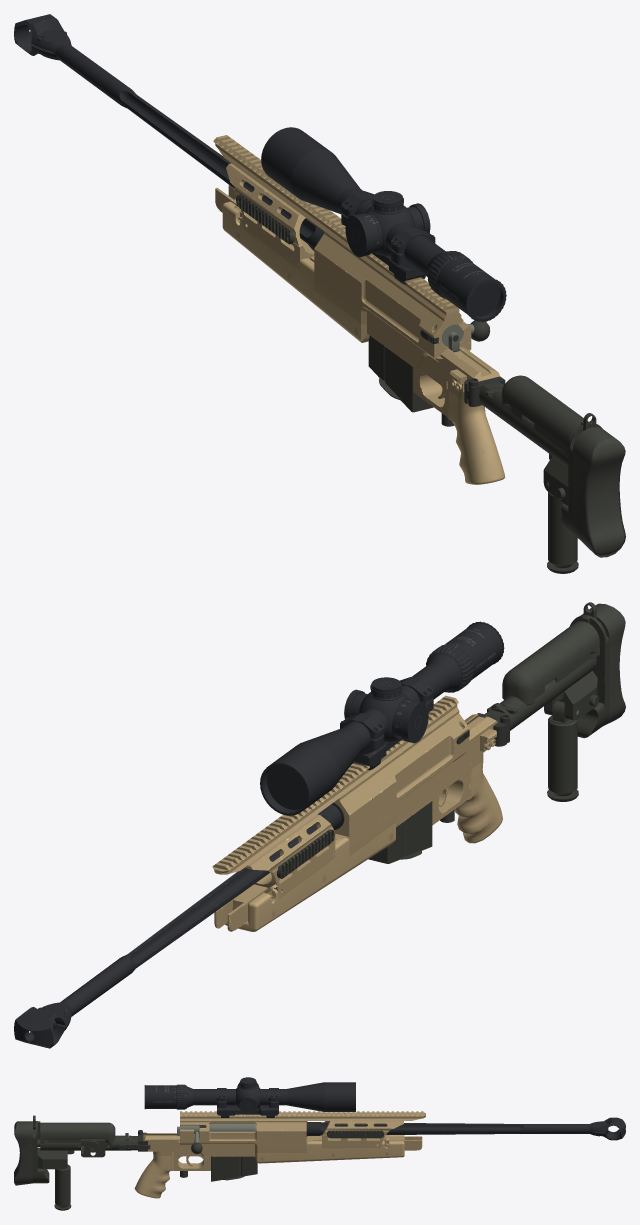
The model's file is SniperRifle.glb.
3 views of the same model, one above another, from view 1: azimuth 30°, elevation 25°; view 2: azimuth 150°, elevation 25°; view 3: azimuth 270°, elevation 25° (orthographic). The views are drawn at different scales.
Visible parts, largest first — view 1: Body, ScopeBarrel, StockDetail, StockGrip, Bolt; view 2: Body, ScopeBarrel, StockGrip, StockDetail, BodyMetal; view 3: Body, ScopeBarrel, StockGrip, StockDetail, Bolt.
Part boxes in pixels (x1=…): Body: x1=213, y1=135, x2=505, y2=484; ScopeBarrel: x1=14, y1=14, x2=506, y2=322; StockDetail: x1=240, y1=194, x2=625, y2=573; StockGrip: x1=236, y1=194, x2=602, y2=573; Bolt: x1=442, y1=320, x2=489, y2=352; Body: x1=212, y1=695, x2=503, y2=931; ScopeBarrel: x1=14, y1=621, x2=504, y2=1048; StockGrip: x1=277, y1=602, x2=609, y2=878; StockDetail: x1=281, y1=603, x2=625, y2=866; BodyMetal: x1=227, y1=713, x2=509, y2=931; Body: x1=134, y1=1111, x2=425, y2=1198; ScopeBarrel: x1=144, y1=1077, x2=625, y2=1140; StockGrip: x1=33, y1=1115, x2=384, y2=1210; StockDetail: x1=14, y1=1121, x2=383, y2=1210; Bolt: x1=177, y1=1123, x2=256, y2=1153.
Size of the model in its own units: 0.4704 by 1.3 by 5.64.
3 materials, 3 textured.
